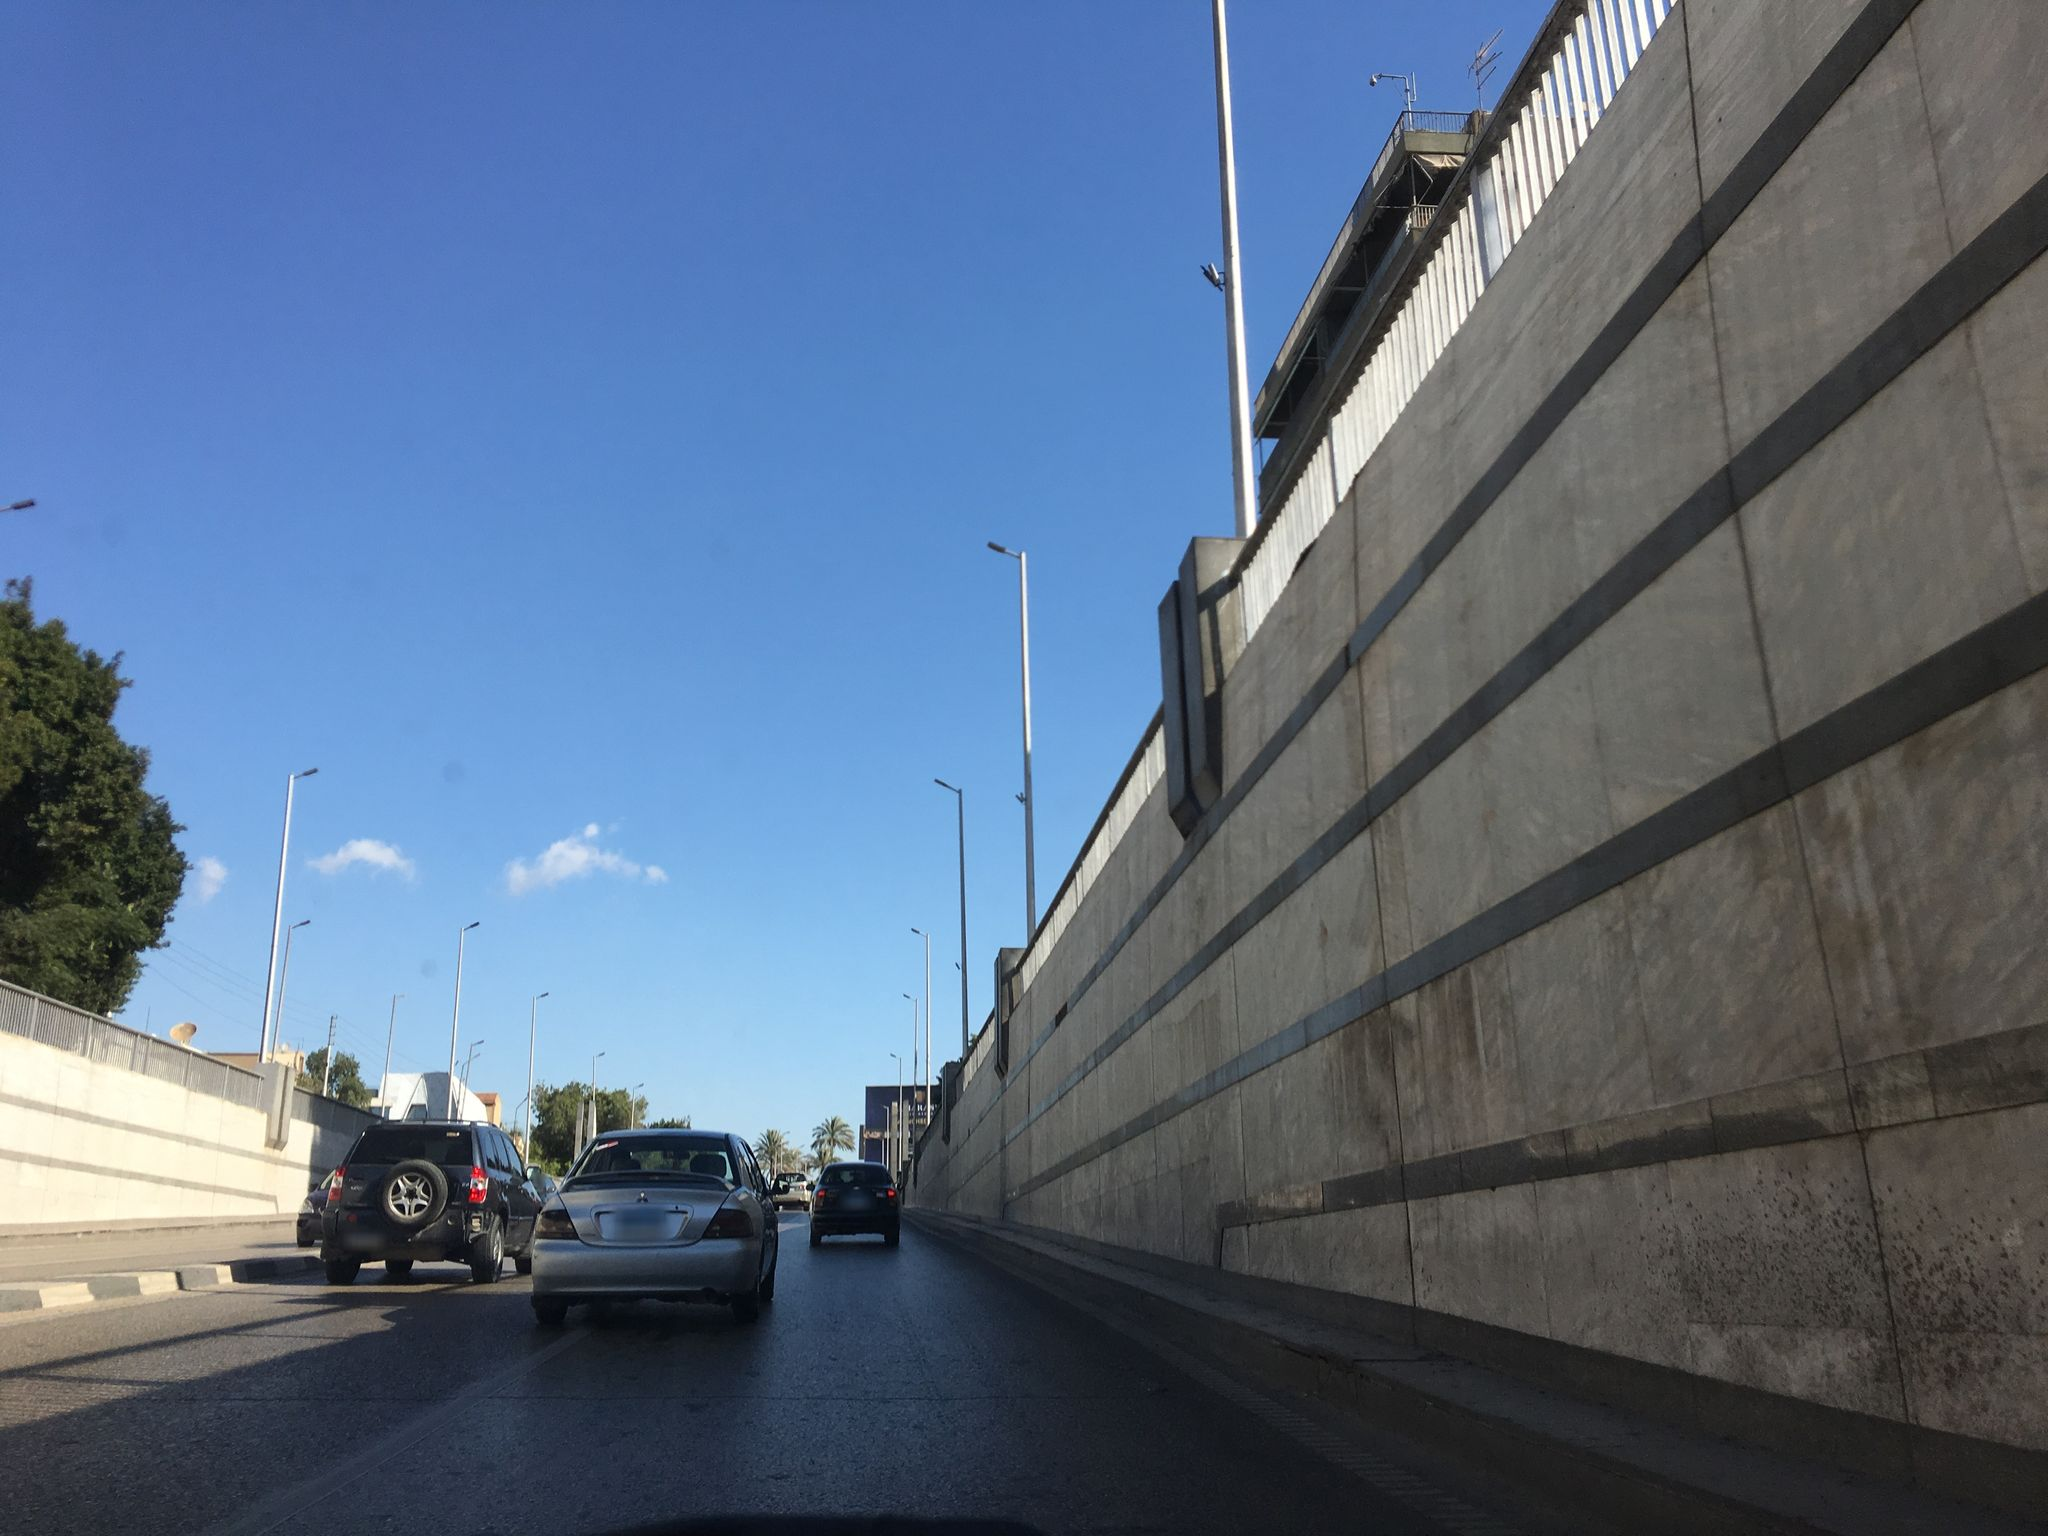car: (527, 1126, 780, 1317), (321, 1117, 545, 1283), (805, 1162, 901, 1246), (293, 1167, 337, 1249), (771, 1171, 811, 1210)
